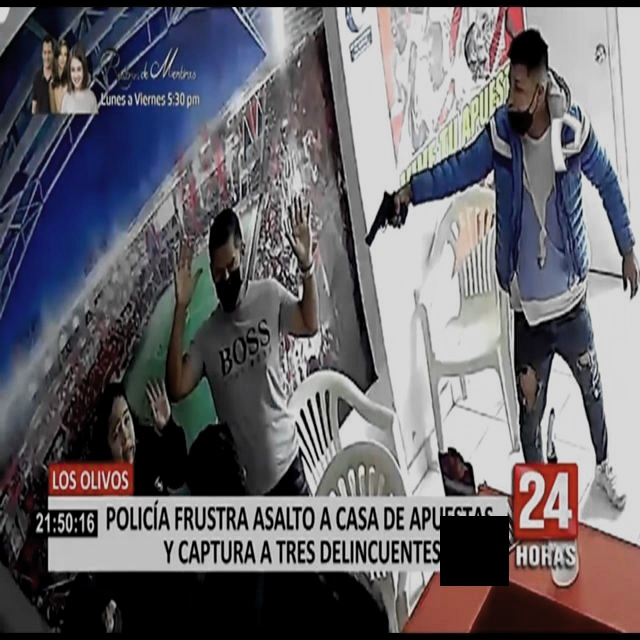gun: (360, 170, 407, 264)
